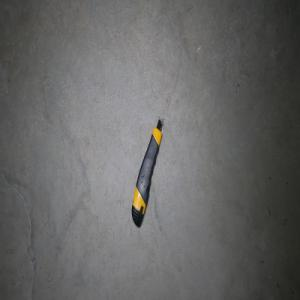Cutter: (131, 119, 163, 228)
